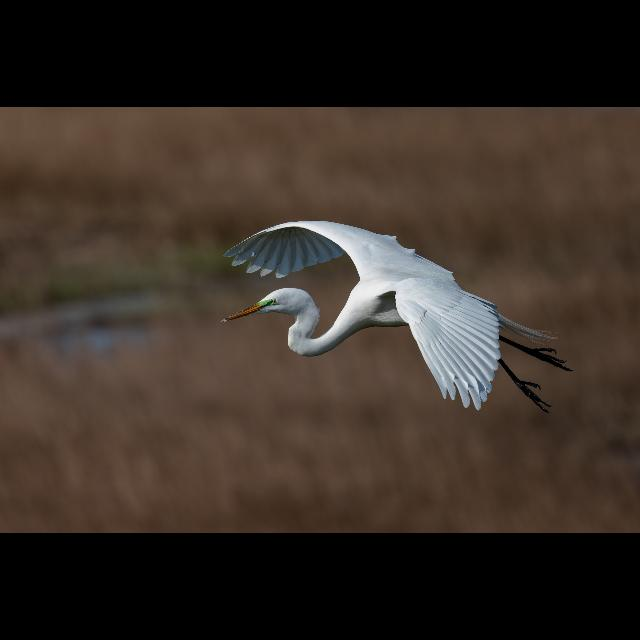egret: (218, 218, 572, 414)
